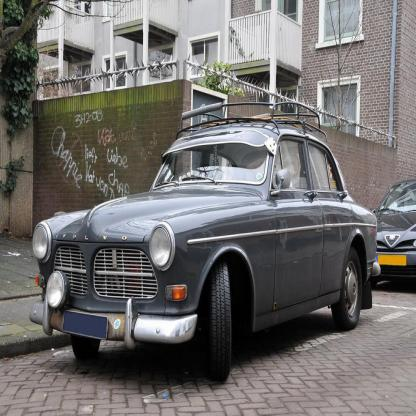Car: (30, 103, 382, 383), (372, 179, 416, 289)
